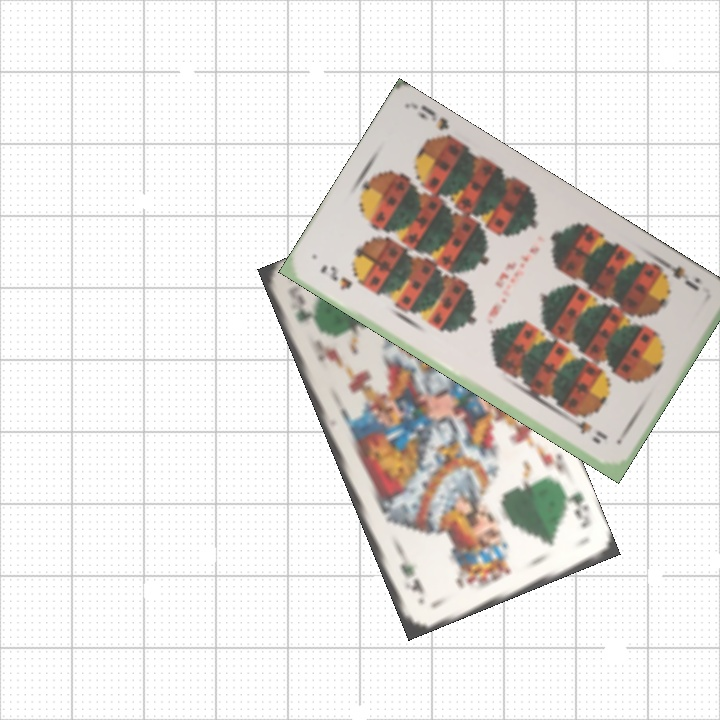GK: (557, 485, 594, 530), (291, 289, 313, 325)
S9: (653, 255, 702, 294), (316, 261, 355, 293)
